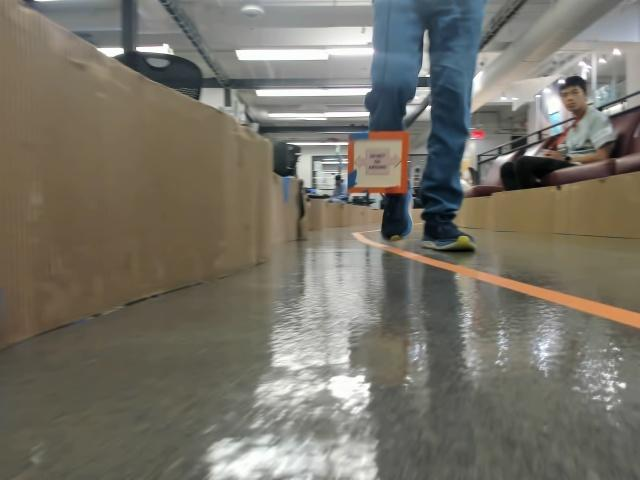Do Not Go Around: (355, 148, 400, 173)
